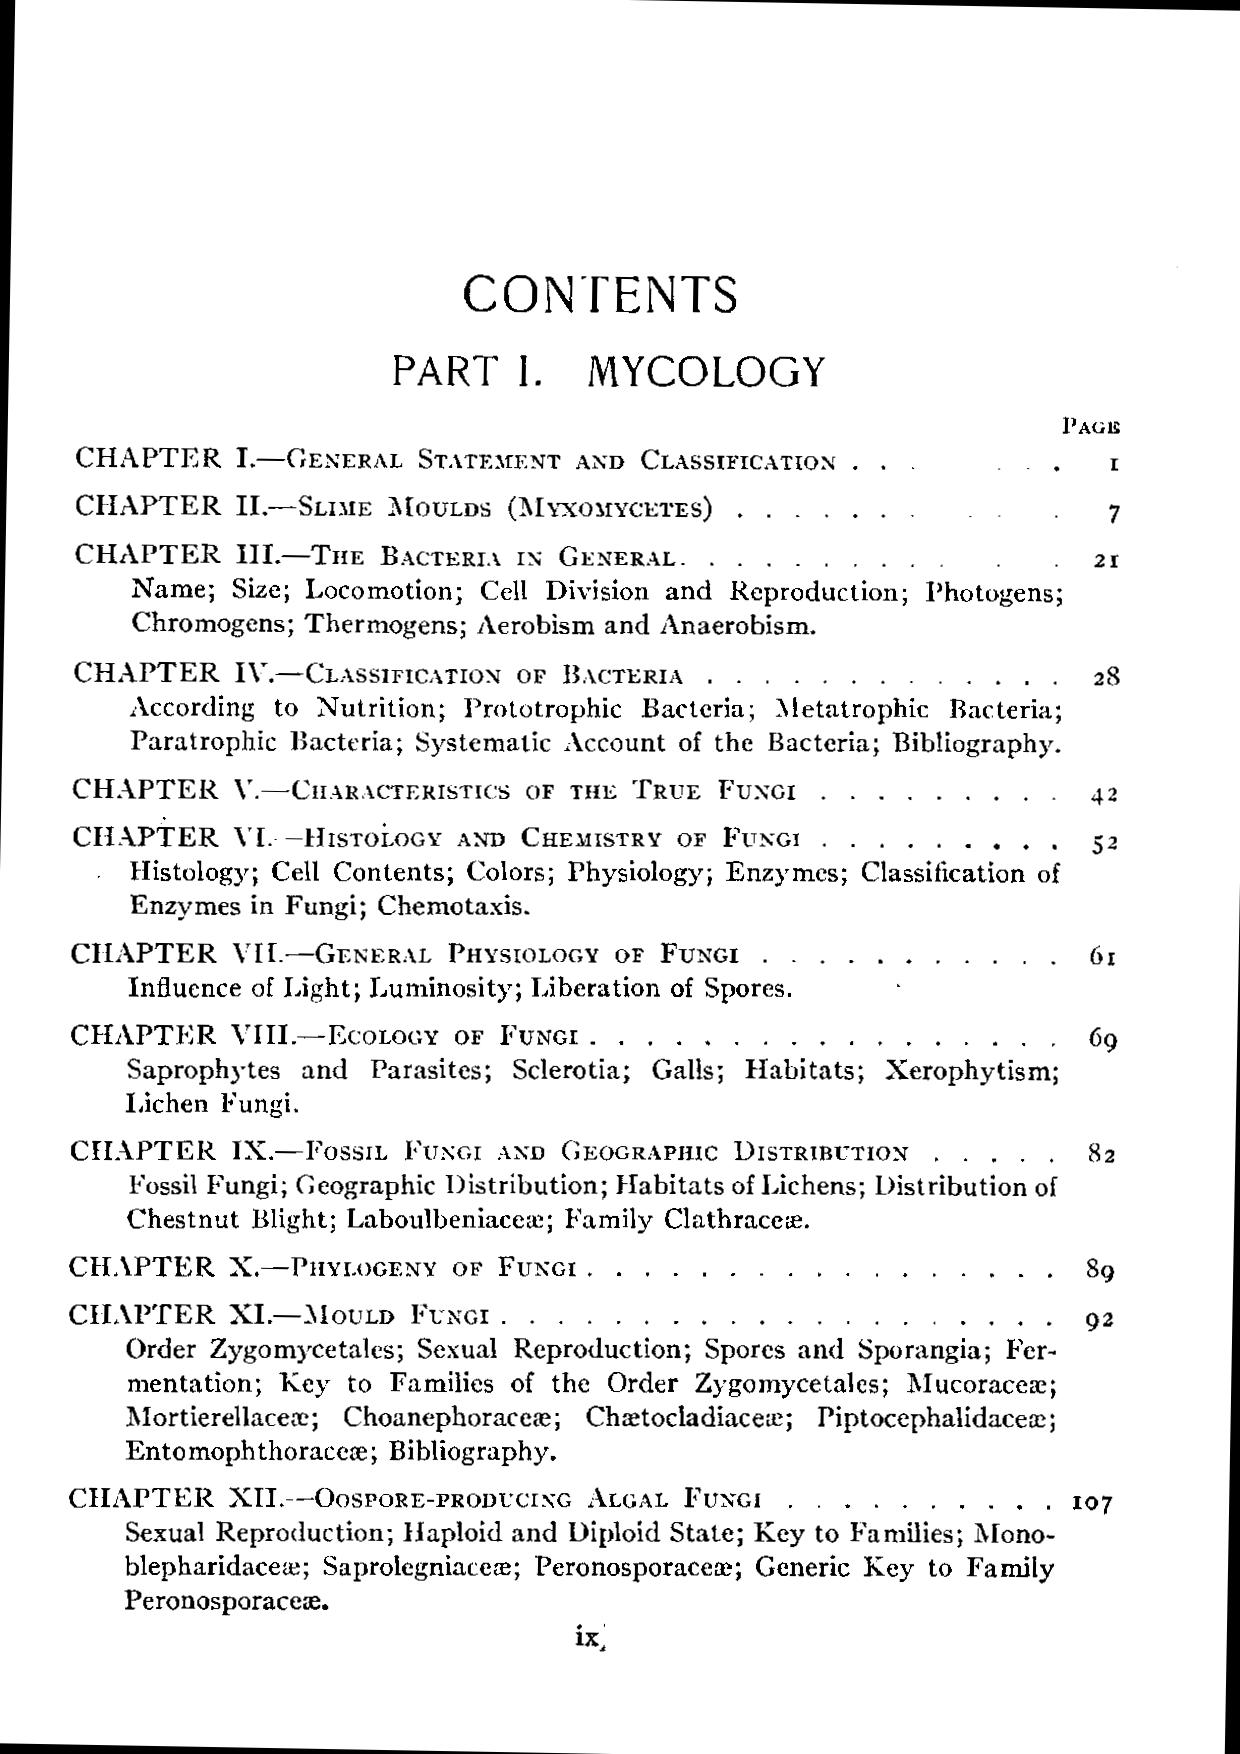TOC_chapter: (122, 1333, 1060, 1465), (123, 1518, 1056, 1618), (129, 572, 1068, 640), (127, 695, 1066, 758), (123, 1052, 1062, 1115), (127, 858, 1062, 921), (125, 1170, 1059, 1233), (70, 1135, 909, 1166), (70, 443, 837, 472), (71, 773, 798, 804), (123, 972, 794, 1004), (74, 488, 717, 522), (68, 823, 801, 849), (70, 538, 675, 568), (386, 350, 827, 391), (68, 659, 690, 687), (63, 1486, 764, 1510), (68, 939, 739, 964), (68, 1253, 576, 1280), (68, 1020, 582, 1045), (67, 1299, 493, 1329)
TOC_pagenumber: (1067, 1490, 1115, 1514), (1084, 1253, 1118, 1287), (1088, 1023, 1119, 1053), (1088, 939, 1117, 969), (1086, 1306, 1117, 1333), (1088, 1141, 1118, 1168), (1091, 662, 1121, 686), (1091, 549, 1121, 570), (1092, 782, 1118, 807), (1092, 832, 1117, 858), (1103, 505, 1129, 526), (1107, 451, 1123, 474)
chapter: (460, 266, 739, 317)
